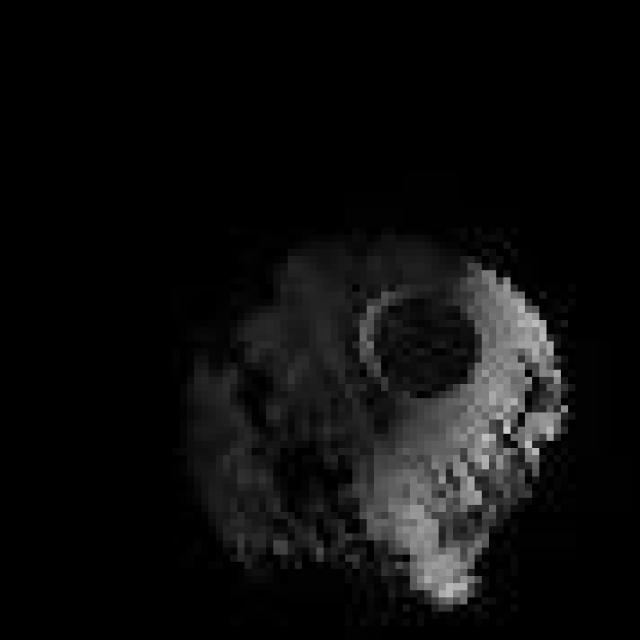Death Star: (165, 213, 576, 619)
